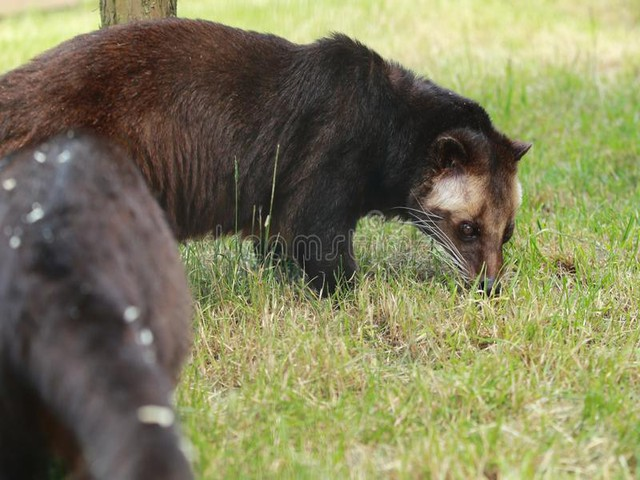civet: (3, 15, 557, 307), (9, 130, 205, 479)
